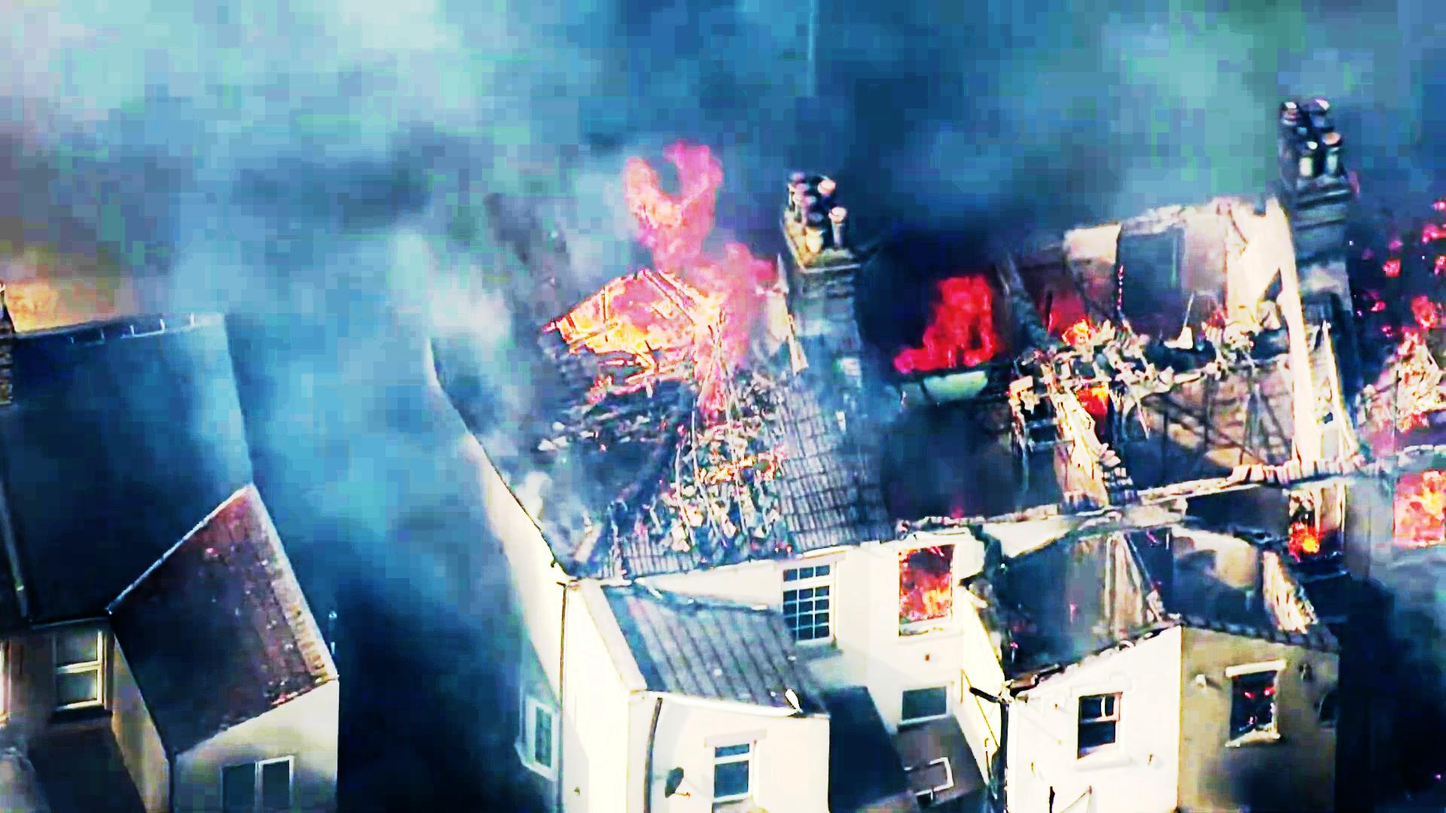fire: (520, 108, 787, 398), (855, 260, 996, 378), (1397, 437, 1446, 546)
smoke: (263, 53, 494, 392)
